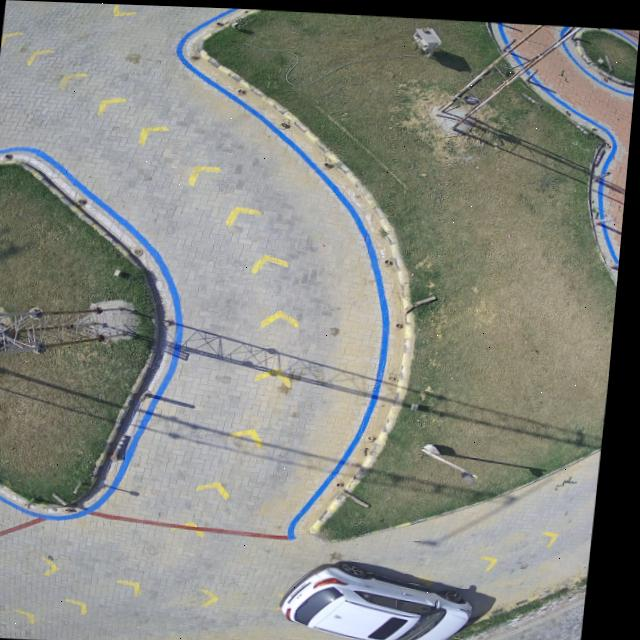car: (291, 556, 483, 640)
